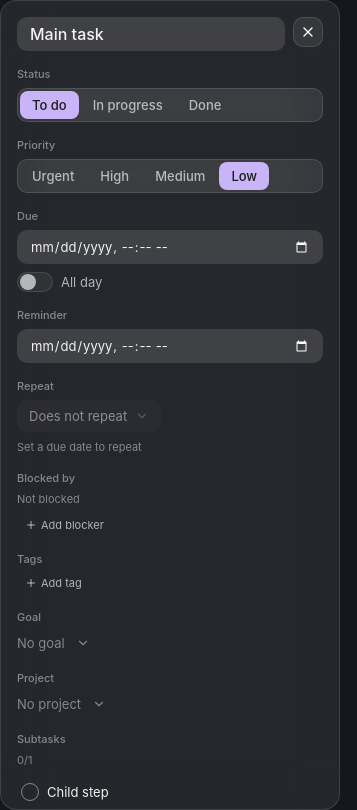
Test case: TaskDetailPanel: blocked by › shows the server message and Try again when the tasks cannot be loaded
Check: the field named "Title" is shown, box [17,17,285,51]
Click the button "Add blocker" at (64,525), box [17,515,112,535]
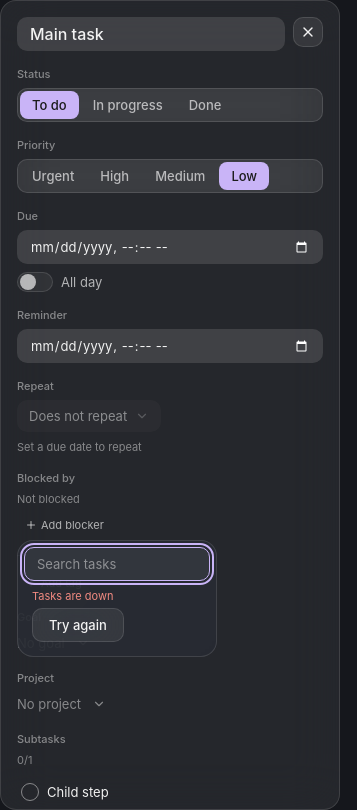
Check: the text "Tasks are down" is shown, box [32,589,114,604]
Click the button "Try again" at (78,625), box [32,608,124,642]
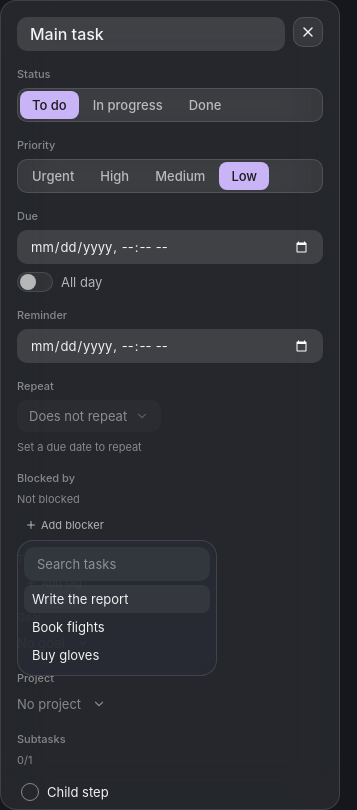
Check: the menu item "Book flights" is shown, box [24,613,210,641]
